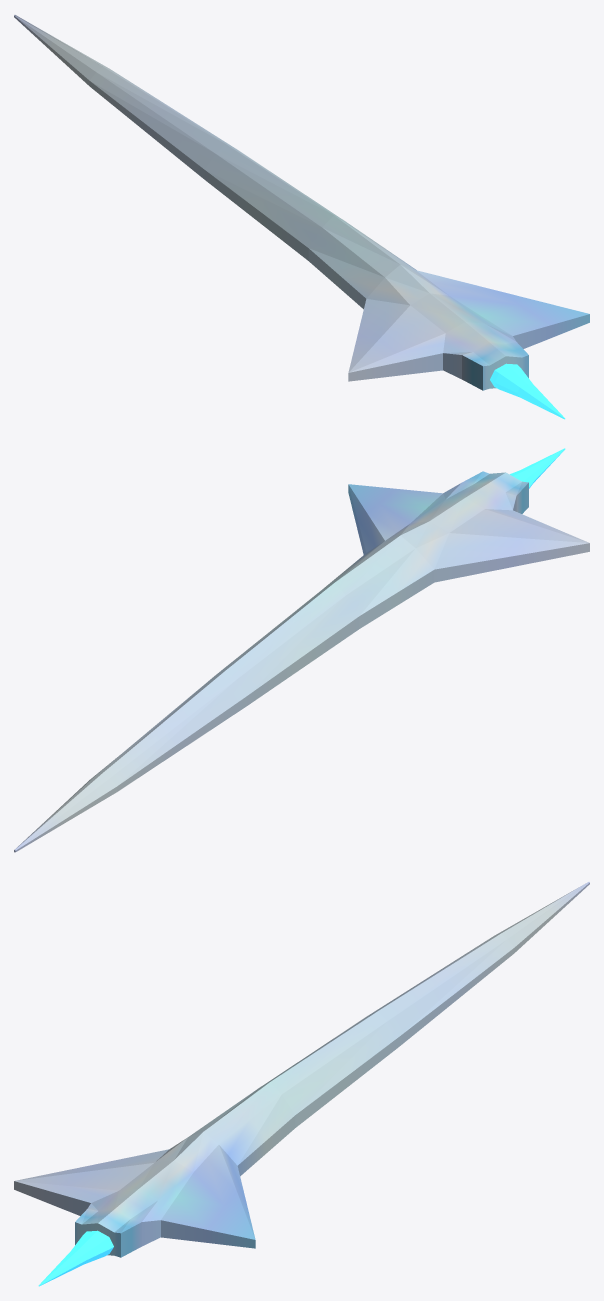
Rendered from 02_fregatte.glb.
The picture shows the model from 3 angles, top to bottom: view 1: azimuth 30°, elevation 25°; view 2: azimuth 150°, elevation 25°; view 3: azimuth 330°, elevation 25°; orthographic projection.
Visible parts, largest first — view 1: Hull, FX_drive; view 2: Hull, FX_drive; view 3: Hull, FX_drive.
Part boxes in pixels (left/top/right/bottom): Hull: left=14, top=15, right=589, bottom=390; FX_drive: left=490, top=363, right=565, bottom=419; Hull: left=14, top=471, right=589, bottom=852; FX_drive: left=510, top=448, right=565, bottom=488; Hull: left=14, top=882, right=589, bottom=1257; FX_drive: left=38, top=1230, right=113, bottom=1286.
Size of the model in its own units: 2.44 by 0.542 by 9.61.
